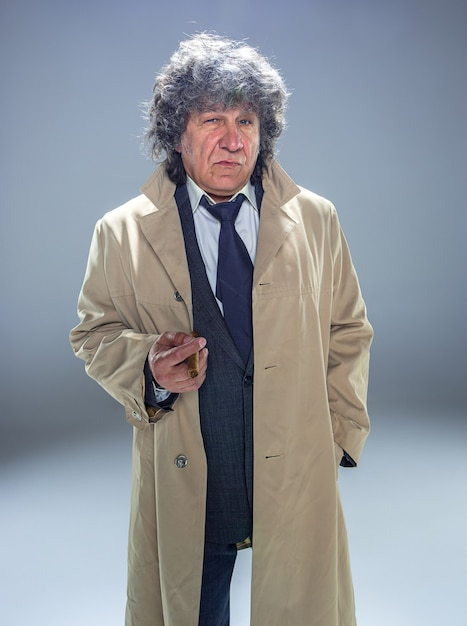cigarette: (186, 346, 200, 382)
